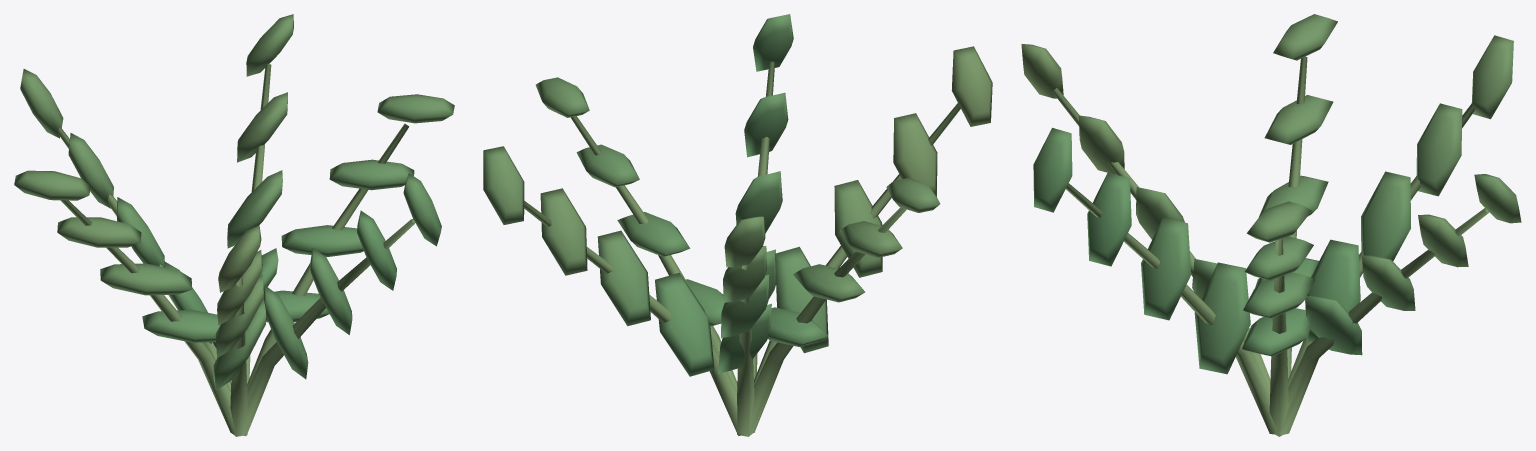
File: fern.glb
The picture shows the model from 3 angles, left to right: view 1: azimuth 30°, elevation 25°; view 2: azimuth 150°, elevation 25°; view 3: azimuth 270°, elevation 25°; orthographic projection. The views are drawn at different scales.
Visible parts, largest first — view 1: fern; view 2: fern; view 3: fern.
Part boxes in pixels (bbox=[...]): fern: bbox=[14, 14, 454, 436]; fern: bbox=[483, 14, 992, 436]; fern: bbox=[1021, 14, 1521, 436].
Size of the model in its own units: 1.53 by 1.1 by 1.48.
